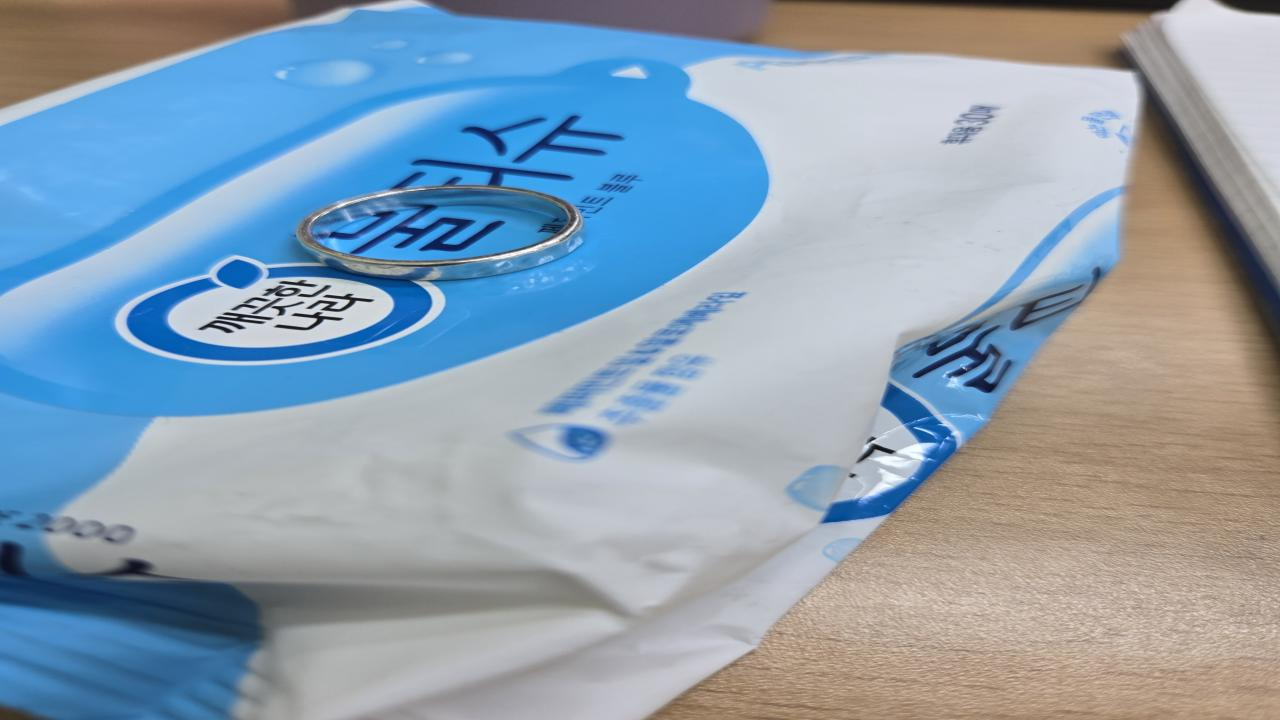ring: (299, 184, 587, 284)
